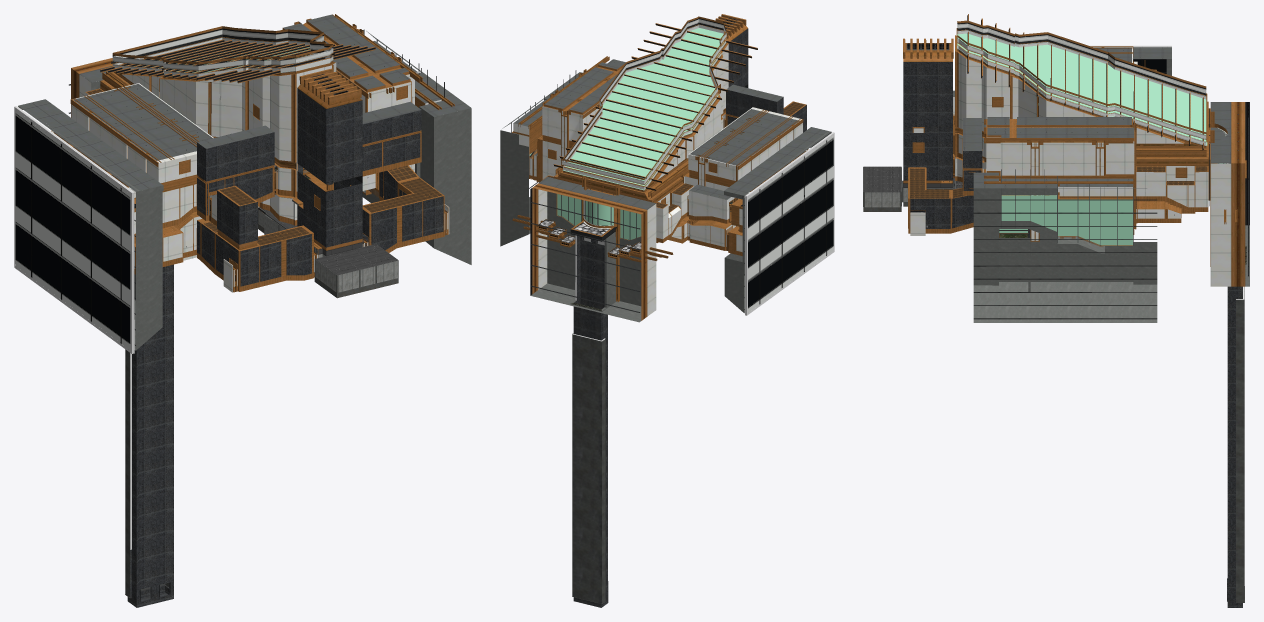
The model's file is reflection.glb.
The picture shows the model from 3 angles, left to right: view 1: azimuth 30°, elevation 25°; view 2: azimuth 150°, elevation 25°; view 3: azimuth 270°, elevation 25°; orthographic projection. The views are drawn at different scales.
Parts seen in each view (by area): view 1: Object_47, Object_64, Object_40, Object_30, Object_54, Object_55, Object_31, Object_63, Object_59, Object_56, Object_2, Object_39 (+6 smaller); view 2: Object_16, Object_30, Object_40, Object_64, Object_55, Object_14, Object_54, Object_47, Object_31, Object_63, Object_59, Object_28 (+5 smaller); view 3: Object_55, Object_40, Object_16, Object_30, Object_47, Object_54, Object_59, Object_58, Object_31, Object_28, Object_14, Object_63 (+4 smaller).
Boxes of the visible parts, left/top/right/bottom form: Object_47: left=19, top=88, right=443, bottom=607; Object_64: left=15, top=110, right=130, bottom=349; Object_40: left=52, top=62, right=449, bottom=292; Object_30: left=51, top=14, right=454, bottom=292; Object_54: left=18, top=14, right=470, bottom=198; Object_55: left=18, top=29, right=471, bottom=350; Object_31: left=69, top=21, right=448, bottom=292; Object_63: left=100, top=28, right=444, bottom=173; Object_59: left=112, top=29, right=333, bottom=219; Object_56: left=14, top=106, right=134, bottom=549; Object_2: left=53, top=89, right=442, bottom=245; Object_39: left=258, top=210, right=397, bottom=292; Object_16: left=529, top=28, right=725, bottom=239; Object_30: left=512, top=14, right=808, bottom=301; Object_40: left=513, top=44, right=807, bottom=316; Object_64: left=748, top=135, right=833, bottom=312; Object_55: left=500, top=99, right=831, bottom=322; Object_14: left=572, top=333, right=605, bottom=603; Object_54: left=502, top=22, right=831, bottom=239; Object_47: left=573, top=28, right=807, bottom=607; Object_31: left=529, top=18, right=806, bottom=255; Object_63: left=511, top=18, right=757, bottom=295; Object_59: left=529, top=19, right=726, bottom=228; Object_28: left=532, top=119, right=731, bottom=320; Object_55: left=973, top=48, right=1249, bottom=322; Object_40: left=910, top=47, right=1231, bottom=286; Object_16: left=957, top=33, right=1225, bottom=245; Object_30: left=903, top=14, right=1246, bottom=266; Object_47: left=903, top=62, right=1242, bottom=607; Object_54: left=906, top=47, right=1231, bottom=245; Object_59: left=955, top=23, right=1227, bottom=176; Object_58: left=910, top=28, right=1248, bottom=319; Object_31: left=903, top=35, right=1210, bottom=236; Object_28: left=953, top=102, right=1245, bottom=286; Object_14: left=1236, top=287, right=1244, bottom=602; Object_63: left=957, top=15, right=1249, bottom=233.
Size of the model in its own units: 101 by 188 by 115.
68 materials, 66 textured.
